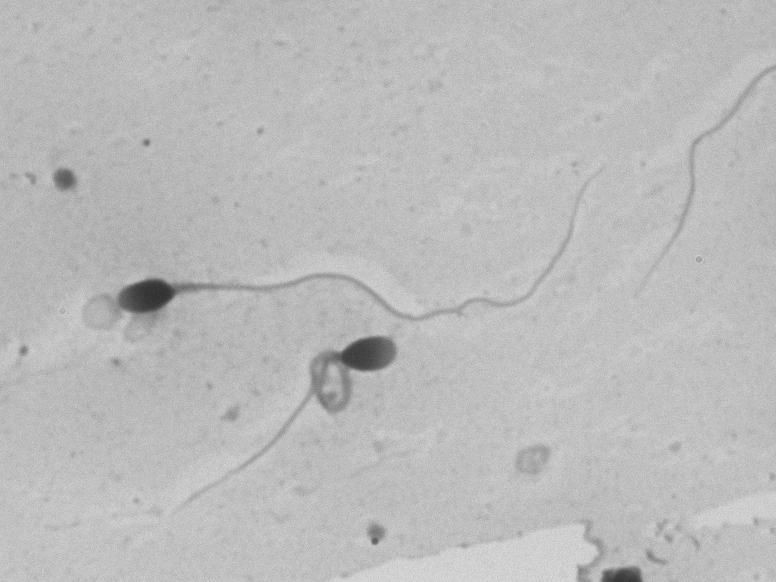Abnormal: (197, 308, 425, 516)
Normal: (100, 153, 607, 341)
